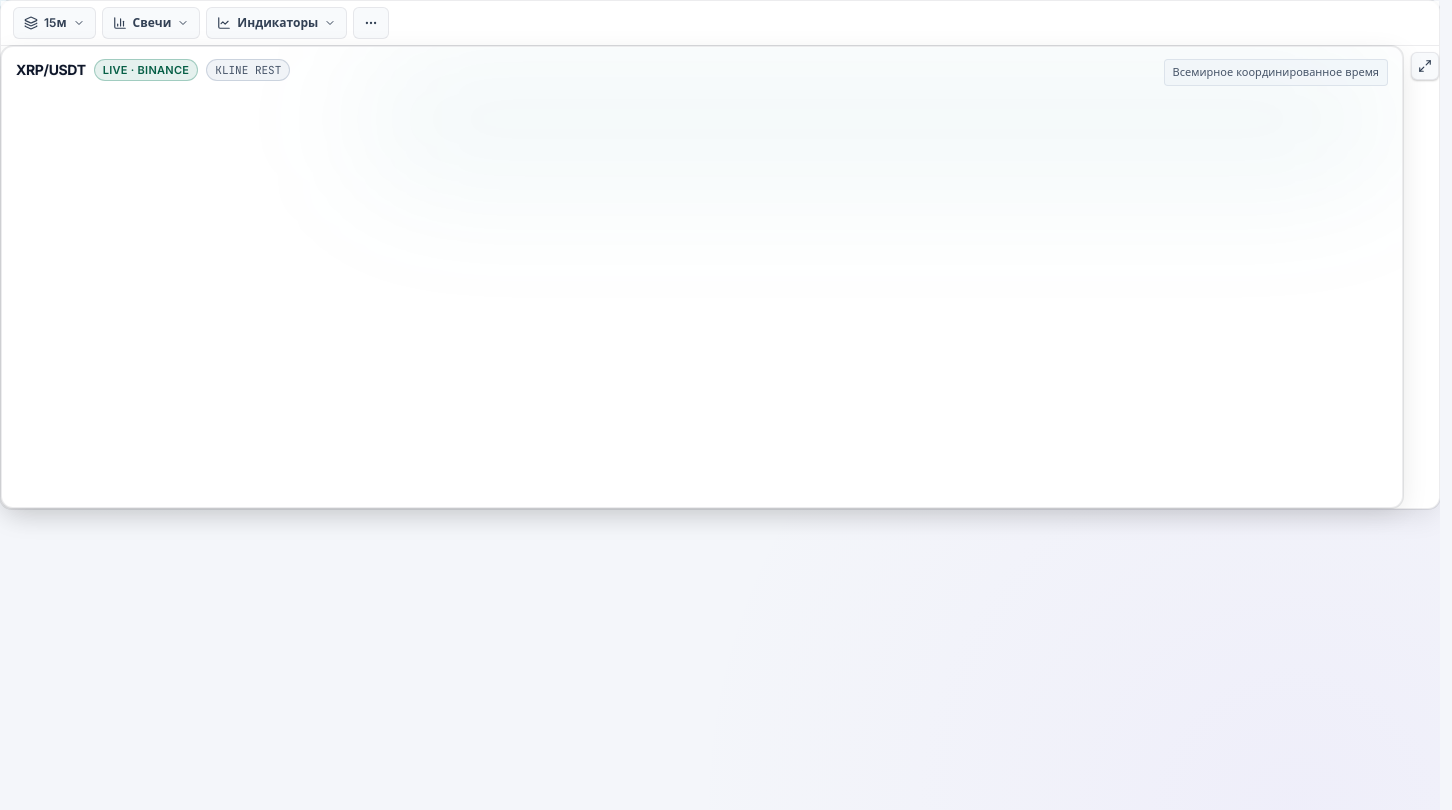
Test: ChartTerminal toolbar › closes an open menu on Escape and outside pointer interaction
Click the button with test id "chart-timeframe-trigger": (54,23) [13, 7, 96, 39]
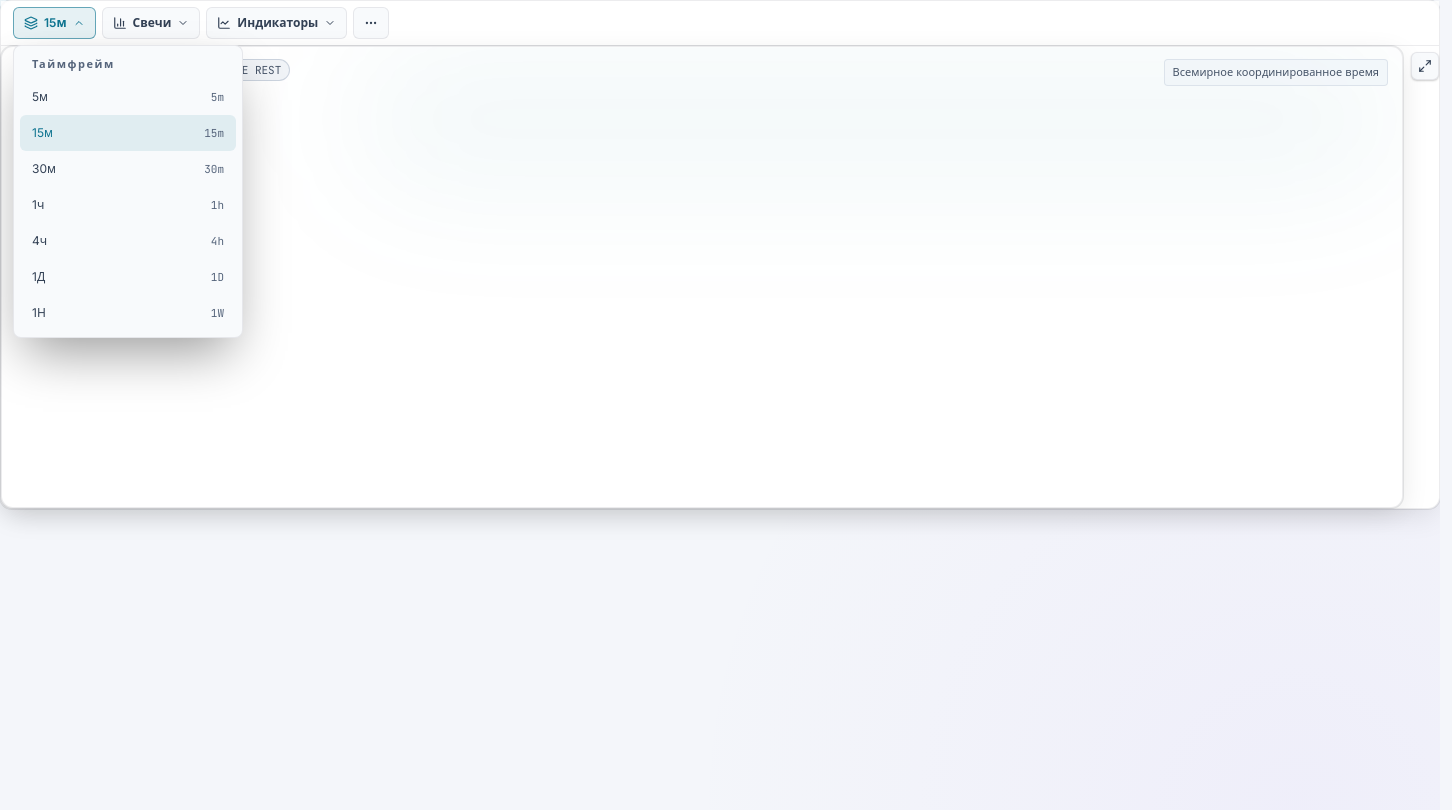
Expected: the menu with test id "chart-timeframe-trigger-menu" is shown, [13, 45, 243, 338]
Press Escape
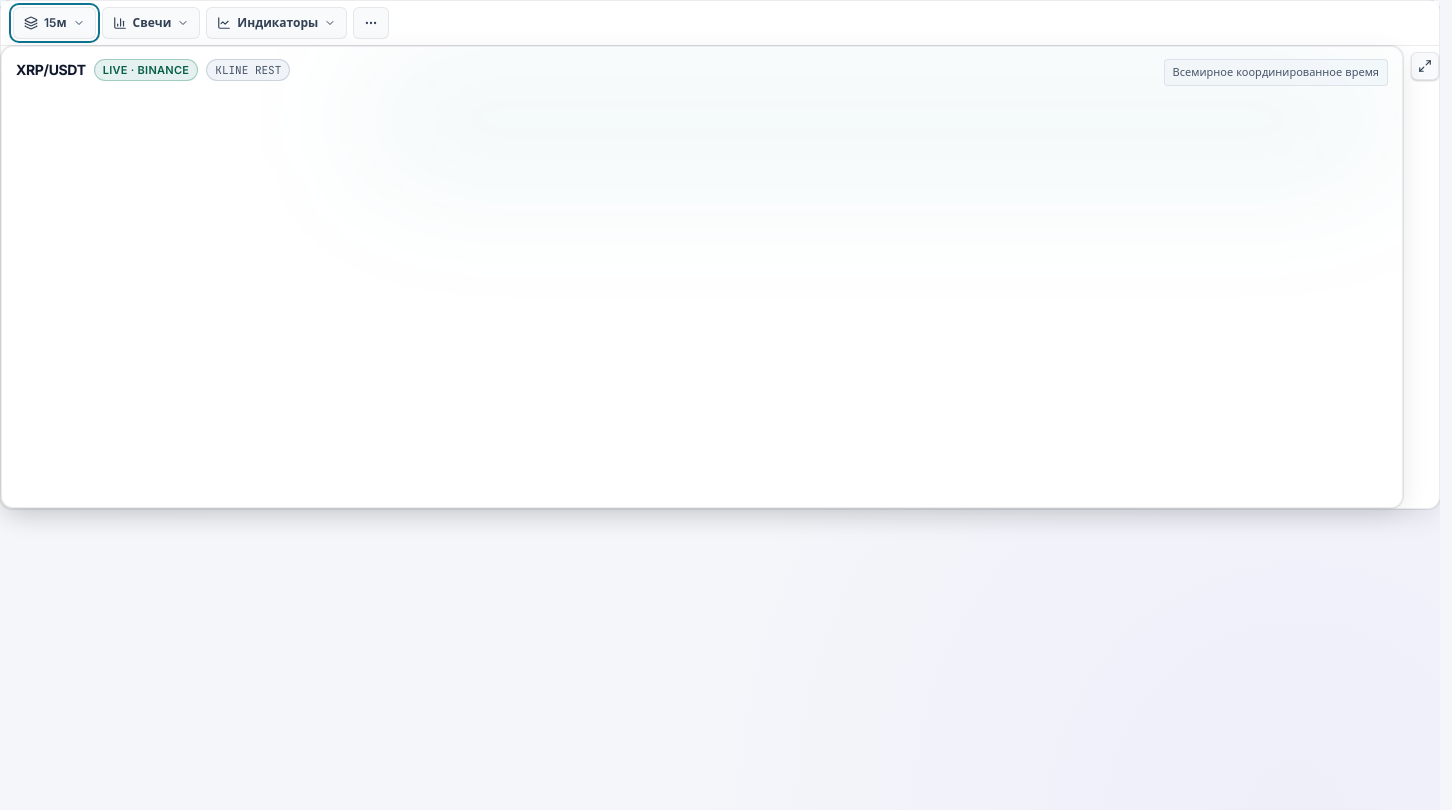
Expected: the menu with test id "chart-timeframe-trigger-menu" is gone
Click the button with test id "chart-timeframe-trigger": (54,23) [13, 7, 96, 39]
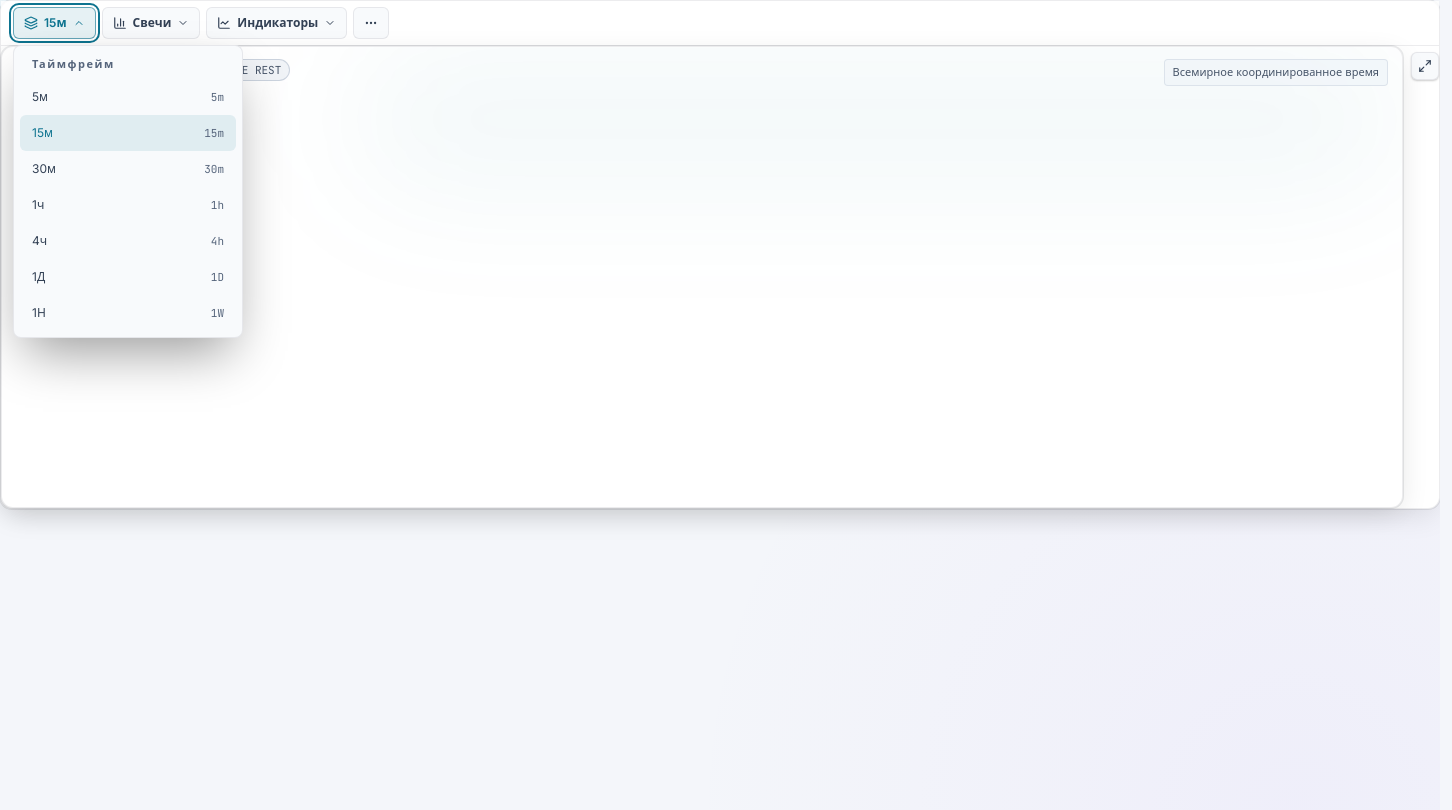
Expected: the menu with test id "chart-timeframe-trigger-menu" is shown, [13, 45, 243, 338]
Press the mouse on the element that starts with "15м": (720,405) [0, 0, 1440, 809]
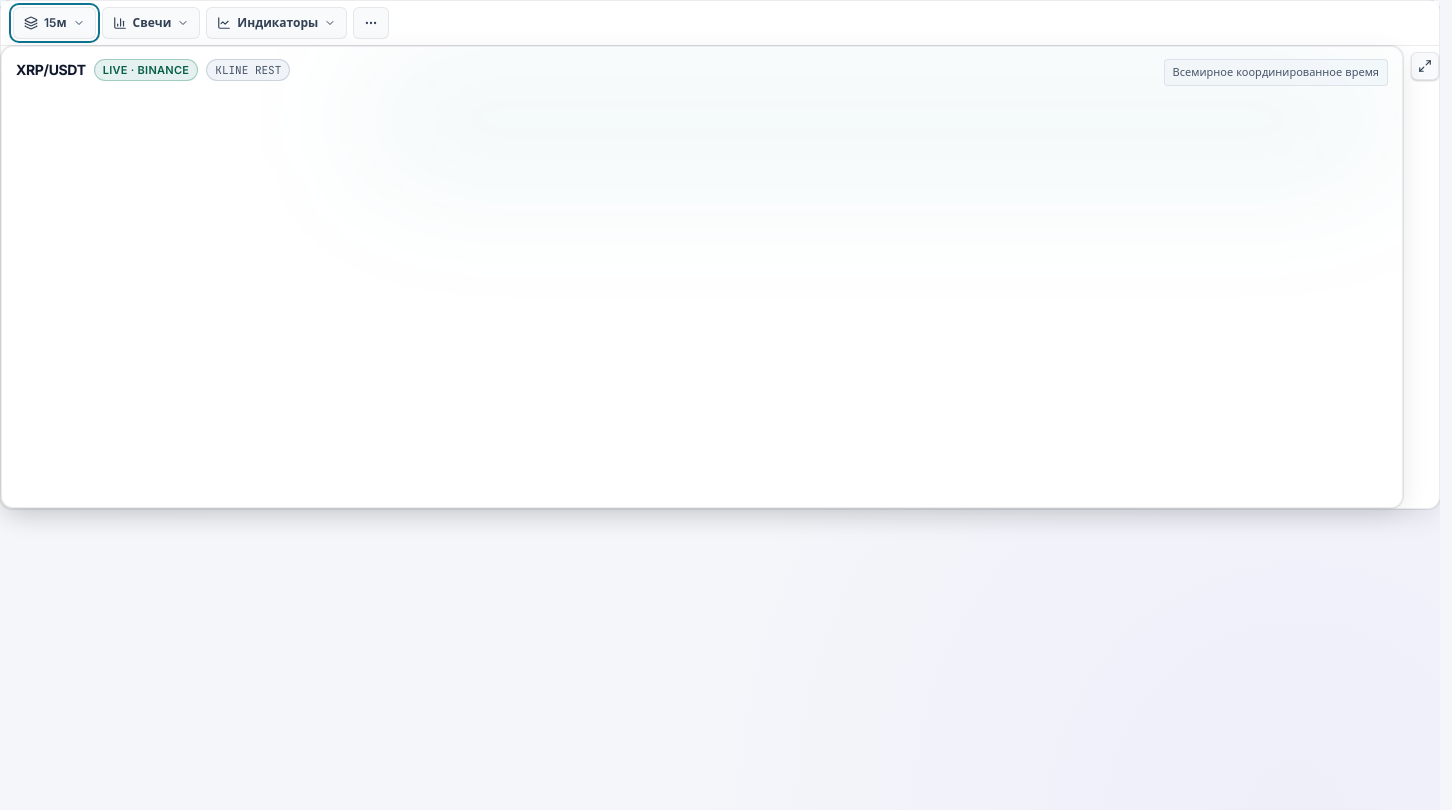
Expected: the menu with test id "chart-timeframe-trigger-menu" is gone
